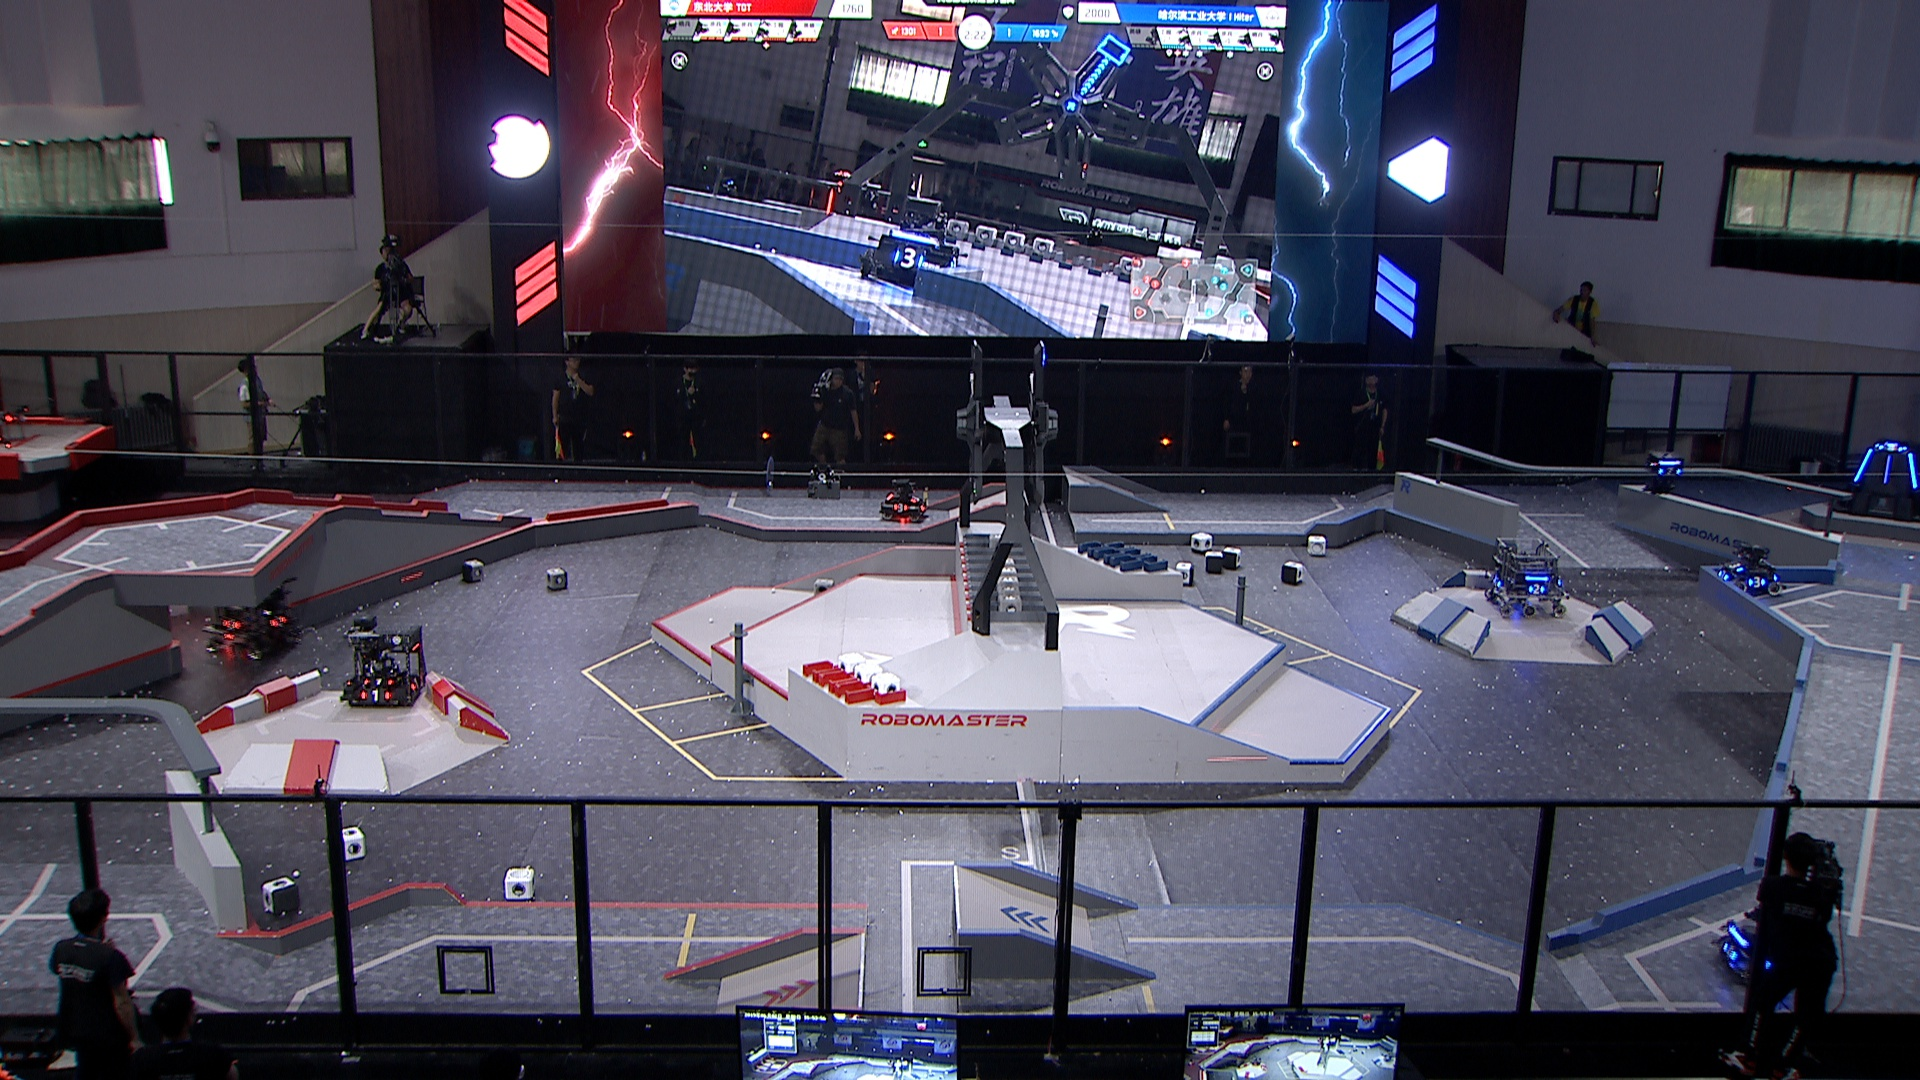armor: (1850, 448, 1875, 487), (1904, 452, 1920, 491), (357, 687, 392, 704), (1721, 938, 1741, 964), (361, 674, 396, 688), (1878, 440, 1907, 456), (218, 616, 240, 636), (406, 670, 425, 694), (1743, 572, 1768, 589), (1658, 463, 1683, 479), (1882, 452, 1894, 485), (268, 611, 289, 628), (1726, 556, 1746, 574), (1524, 583, 1548, 595), (893, 500, 909, 516), (1489, 574, 1505, 589), (1716, 567, 1731, 583), (907, 489, 922, 505)
base: (1828, 436, 1920, 526)
car: (199, 575, 302, 669), (338, 613, 429, 712), (1712, 901, 1808, 992), (1482, 535, 1571, 618), (1712, 542, 1787, 603), (878, 473, 932, 524)
ignore: (858, 195, 971, 291)
watcher: (1640, 450, 1687, 496)
